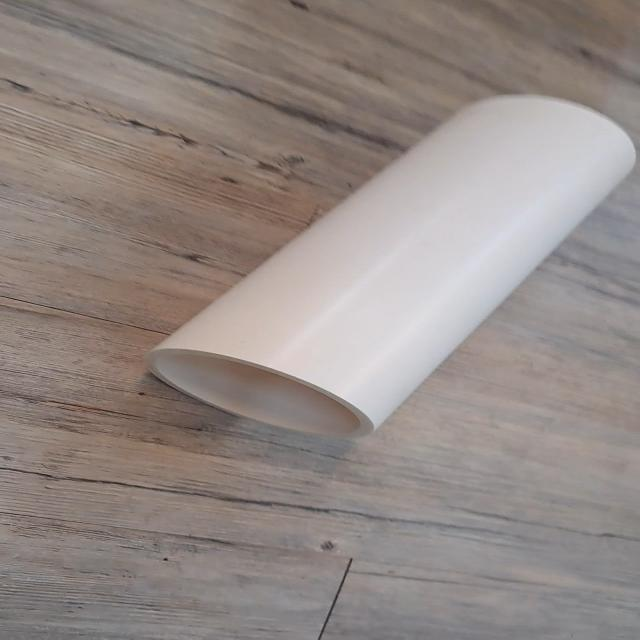CORAL: (137, 80, 640, 442)
